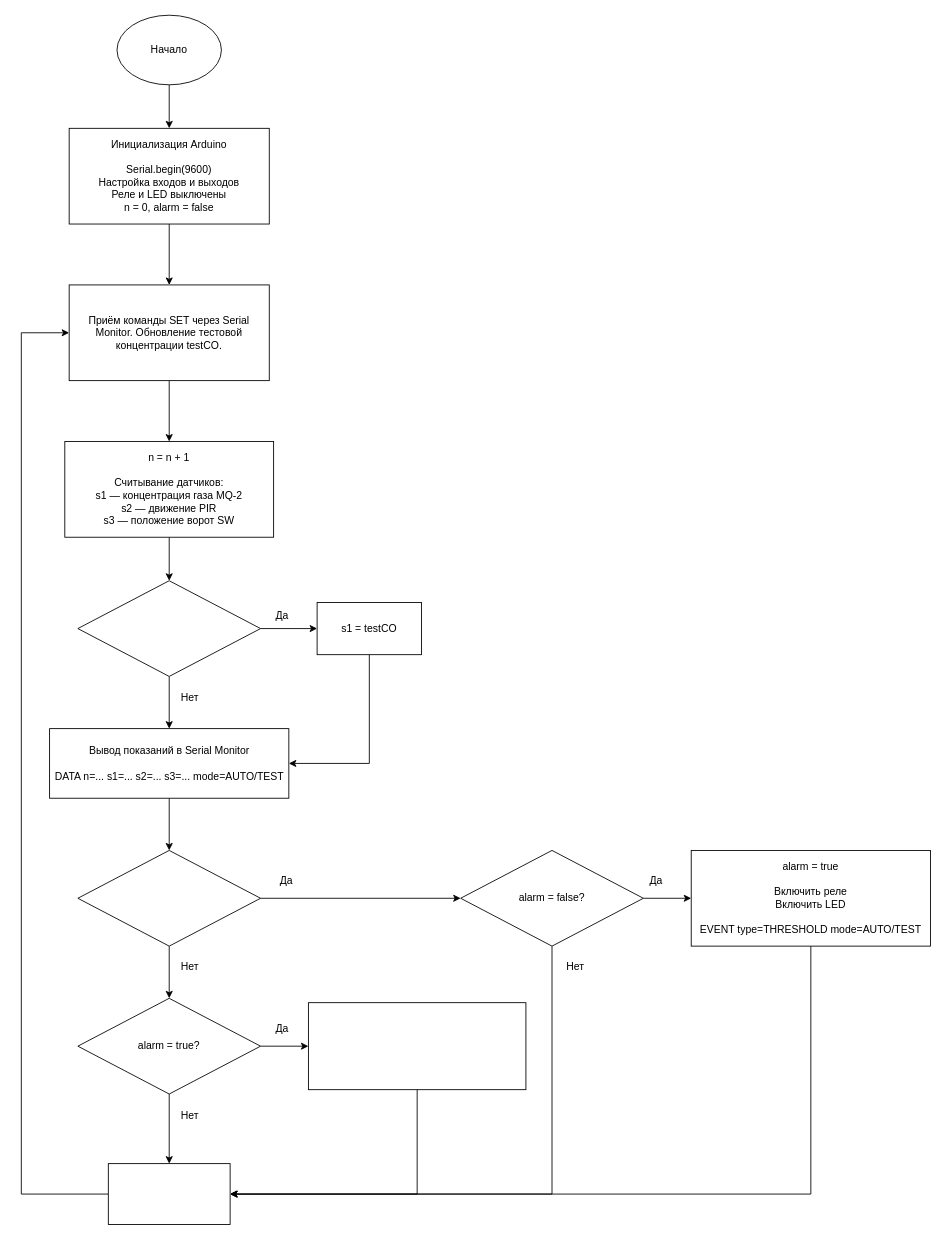
Some shapes in this 946 by 1240 pixel diagram are drawn without their labels. The centre of each missing label's shape, as x and y in pixels:
"alarm = false Выключить реле Выключить LED EVENT type=NORMAL mode=AUTO/TEST" goes at (417,1046).
"s1 > 50 ppm?" goes at (169,898).
"SW2 замкнут на GND? (D4)" goes at (169,628).
"Ожидание 5 секунд delay(5000)" goes at (168,1194).
